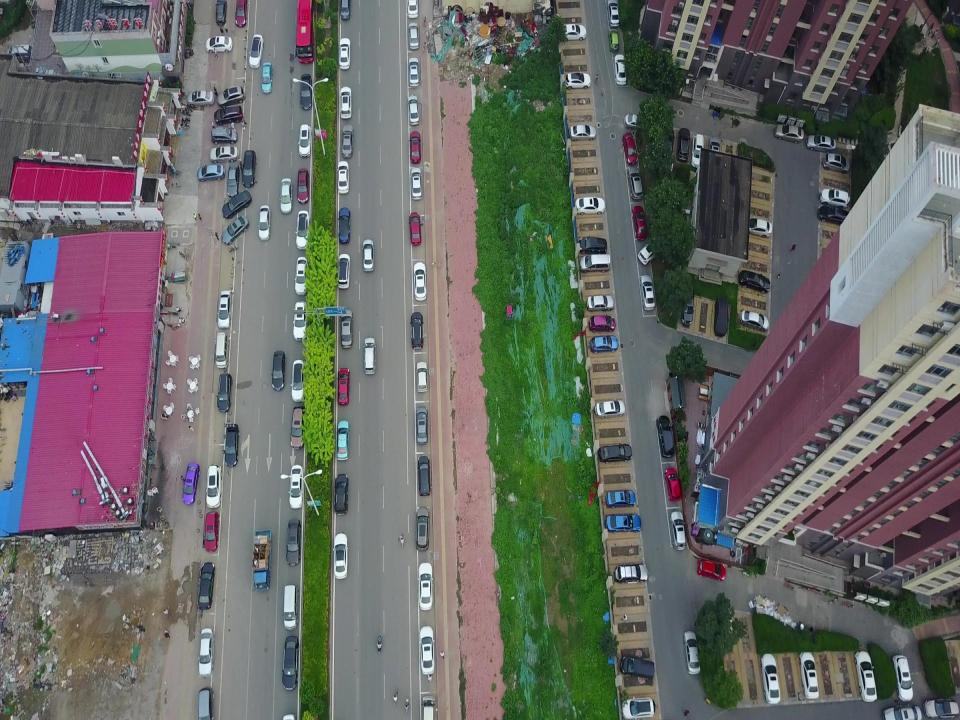bus: (294, 0, 317, 66)
car: (853, 649, 879, 703), (279, 634, 301, 693), (891, 653, 915, 702), (195, 559, 217, 612), (760, 652, 782, 704), (280, 581, 300, 632), (330, 472, 350, 523), (620, 654, 656, 682), (610, 562, 650, 587), (799, 650, 819, 700), (285, 465, 307, 510), (655, 413, 676, 460), (816, 203, 852, 230), (418, 623, 436, 676), (222, 423, 242, 469), (924, 694, 960, 719), (222, 189, 253, 218), (222, 213, 250, 245), (417, 561, 435, 610), (198, 624, 214, 678), (286, 516, 303, 566), (289, 404, 306, 454), (332, 531, 349, 581), (205, 462, 223, 509), (682, 628, 700, 675), (621, 696, 656, 720), (740, 267, 770, 295), (604, 513, 643, 534), (182, 462, 200, 506), (270, 350, 288, 394), (411, 260, 429, 304), (597, 443, 633, 465), (574, 194, 608, 217), (333, 419, 351, 462), (291, 358, 307, 405), (558, 18, 588, 43), (696, 556, 726, 581), (669, 509, 687, 550), (637, 238, 663, 266), (195, 684, 215, 720), (334, 368, 352, 408), (740, 308, 770, 332), (216, 371, 233, 413), (292, 299, 309, 341), (416, 452, 432, 496), (594, 397, 626, 419), (819, 187, 851, 209), (296, 73, 314, 112), (407, 208, 425, 247), (630, 203, 648, 242), (240, 149, 257, 190), (204, 509, 220, 552), (663, 467, 682, 503), (414, 402, 430, 444), (410, 308, 426, 350), (294, 255, 310, 296), (577, 234, 608, 255), (626, 165, 644, 201), (745, 215, 772, 239), (416, 506, 430, 552), (579, 253, 611, 273), (882, 704, 922, 720), (215, 84, 245, 105), (204, 33, 234, 54), (588, 334, 618, 355), (806, 132, 836, 153), (640, 273, 657, 310), (218, 290, 234, 329), (296, 209, 312, 248), (208, 145, 239, 165), (569, 122, 597, 144), (714, 293, 728, 337), (335, 252, 351, 290), (248, 33, 264, 71), (212, 105, 244, 124), (413, 358, 429, 396), (363, 335, 377, 378), (605, 488, 635, 508), (774, 122, 804, 142), (337, 35, 353, 72), (681, 284, 695, 326), (822, 153, 850, 174), (341, 305, 354, 350), (297, 122, 313, 158), (624, 111, 650, 133), (197, 163, 225, 183), (621, 130, 637, 165), (296, 165, 310, 204), (362, 236, 376, 275), (708, 135, 722, 174), (406, 91, 422, 125), (186, 90, 216, 108), (210, 126, 238, 145), (5, 45, 33, 64), (409, 168, 425, 201), (406, 56, 422, 89), (336, 160, 351, 195), (280, 177, 294, 214), (589, 313, 616, 332), (338, 208, 351, 247), (261, 61, 275, 97), (226, 162, 240, 198), (676, 128, 690, 164), (692, 132, 706, 168), (258, 205, 271, 242), (339, 85, 353, 119), (408, 130, 422, 164), (564, 72, 592, 89), (341, 123, 354, 159), (660, 124, 674, 157), (586, 295, 614, 311), (616, 53, 628, 90), (407, 22, 421, 52), (235, 0, 249, 27), (340, 0, 354, 26), (214, 0, 227, 25), (608, 0, 619, 27), (406, 0, 420, 21), (609, 26, 620, 52)
truck: (254, 526, 274, 593)
van: (215, 330, 231, 369), (420, 694, 435, 720)
